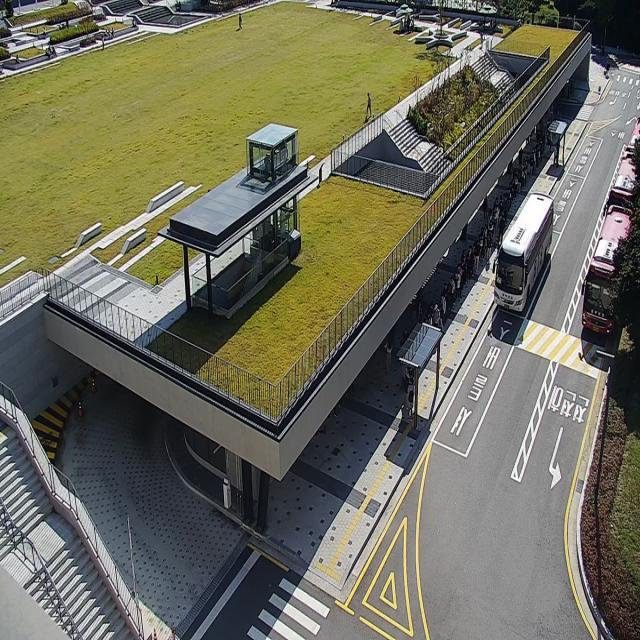queue: (415, 120, 551, 431)
